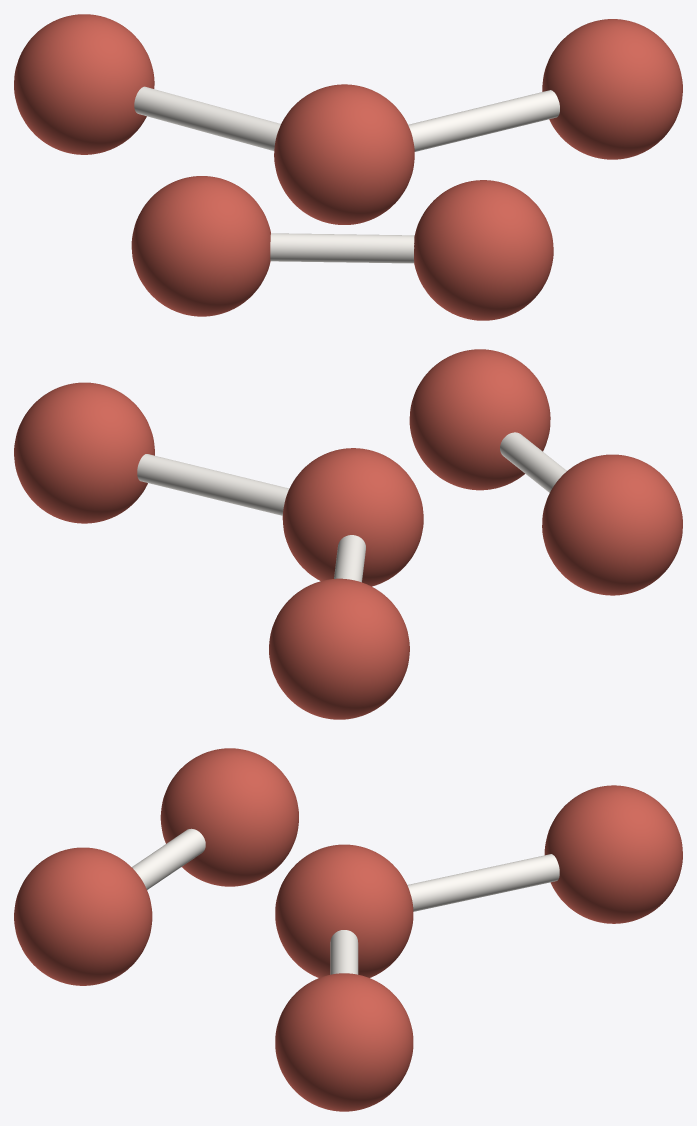
The model's file is s117_8.01_dikyslik_a_ozon.glb.
3 renders of one model, top to bottom at view 1: azimuth 30°, elevation 25°; view 2: azimuth 150°, elevation 25°; view 3: azimuth 270°, elevation 25°, orthographic.
Parts seen in each view (by area): view 1: Sphere 2 (×3), Sphere 3 (×2), Cylinder (×3); view 2: Sphere 2 (×3), Sphere 3 (×2), Cylinder (×3); view 3: Sphere 2 (×3), Sphere 3 (×2), Cylinder (×3).
Boxes of the visible parts, x1=… form: Sphere 2 (×3): x1=14, y1=14, x2=682, y2=320; Sphere 3 (×2): x1=131, y1=84, x2=414, y2=316; Cylinder (×3): x1=134, y1=86, x2=559, y2=263; Sphere 2 (×3): x1=14, y1=349, x2=550, y2=719; Sphere 3 (×2): x1=282, y1=448, x2=682, y2=595; Cylinder (×3): x1=137, y1=432, x2=566, y2=582; Sphere 2 (×3): x1=14, y1=785, x2=682, y2=1111; Sphere 3 (×2): x1=160, y1=748, x2=413, y2=977; Cylinder (×3): x1=131, y1=828, x2=559, y2=974.
Bounding box in the file's own units: 0.969 × 0.2 × 0.9665.
